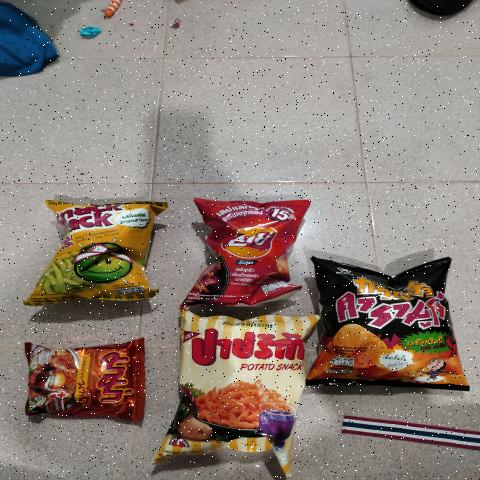karamujo: (326, 278, 436, 381)
mama: (38, 349, 142, 423)
paprika: (190, 322, 290, 457)
snack_jack: (60, 204, 140, 292)
